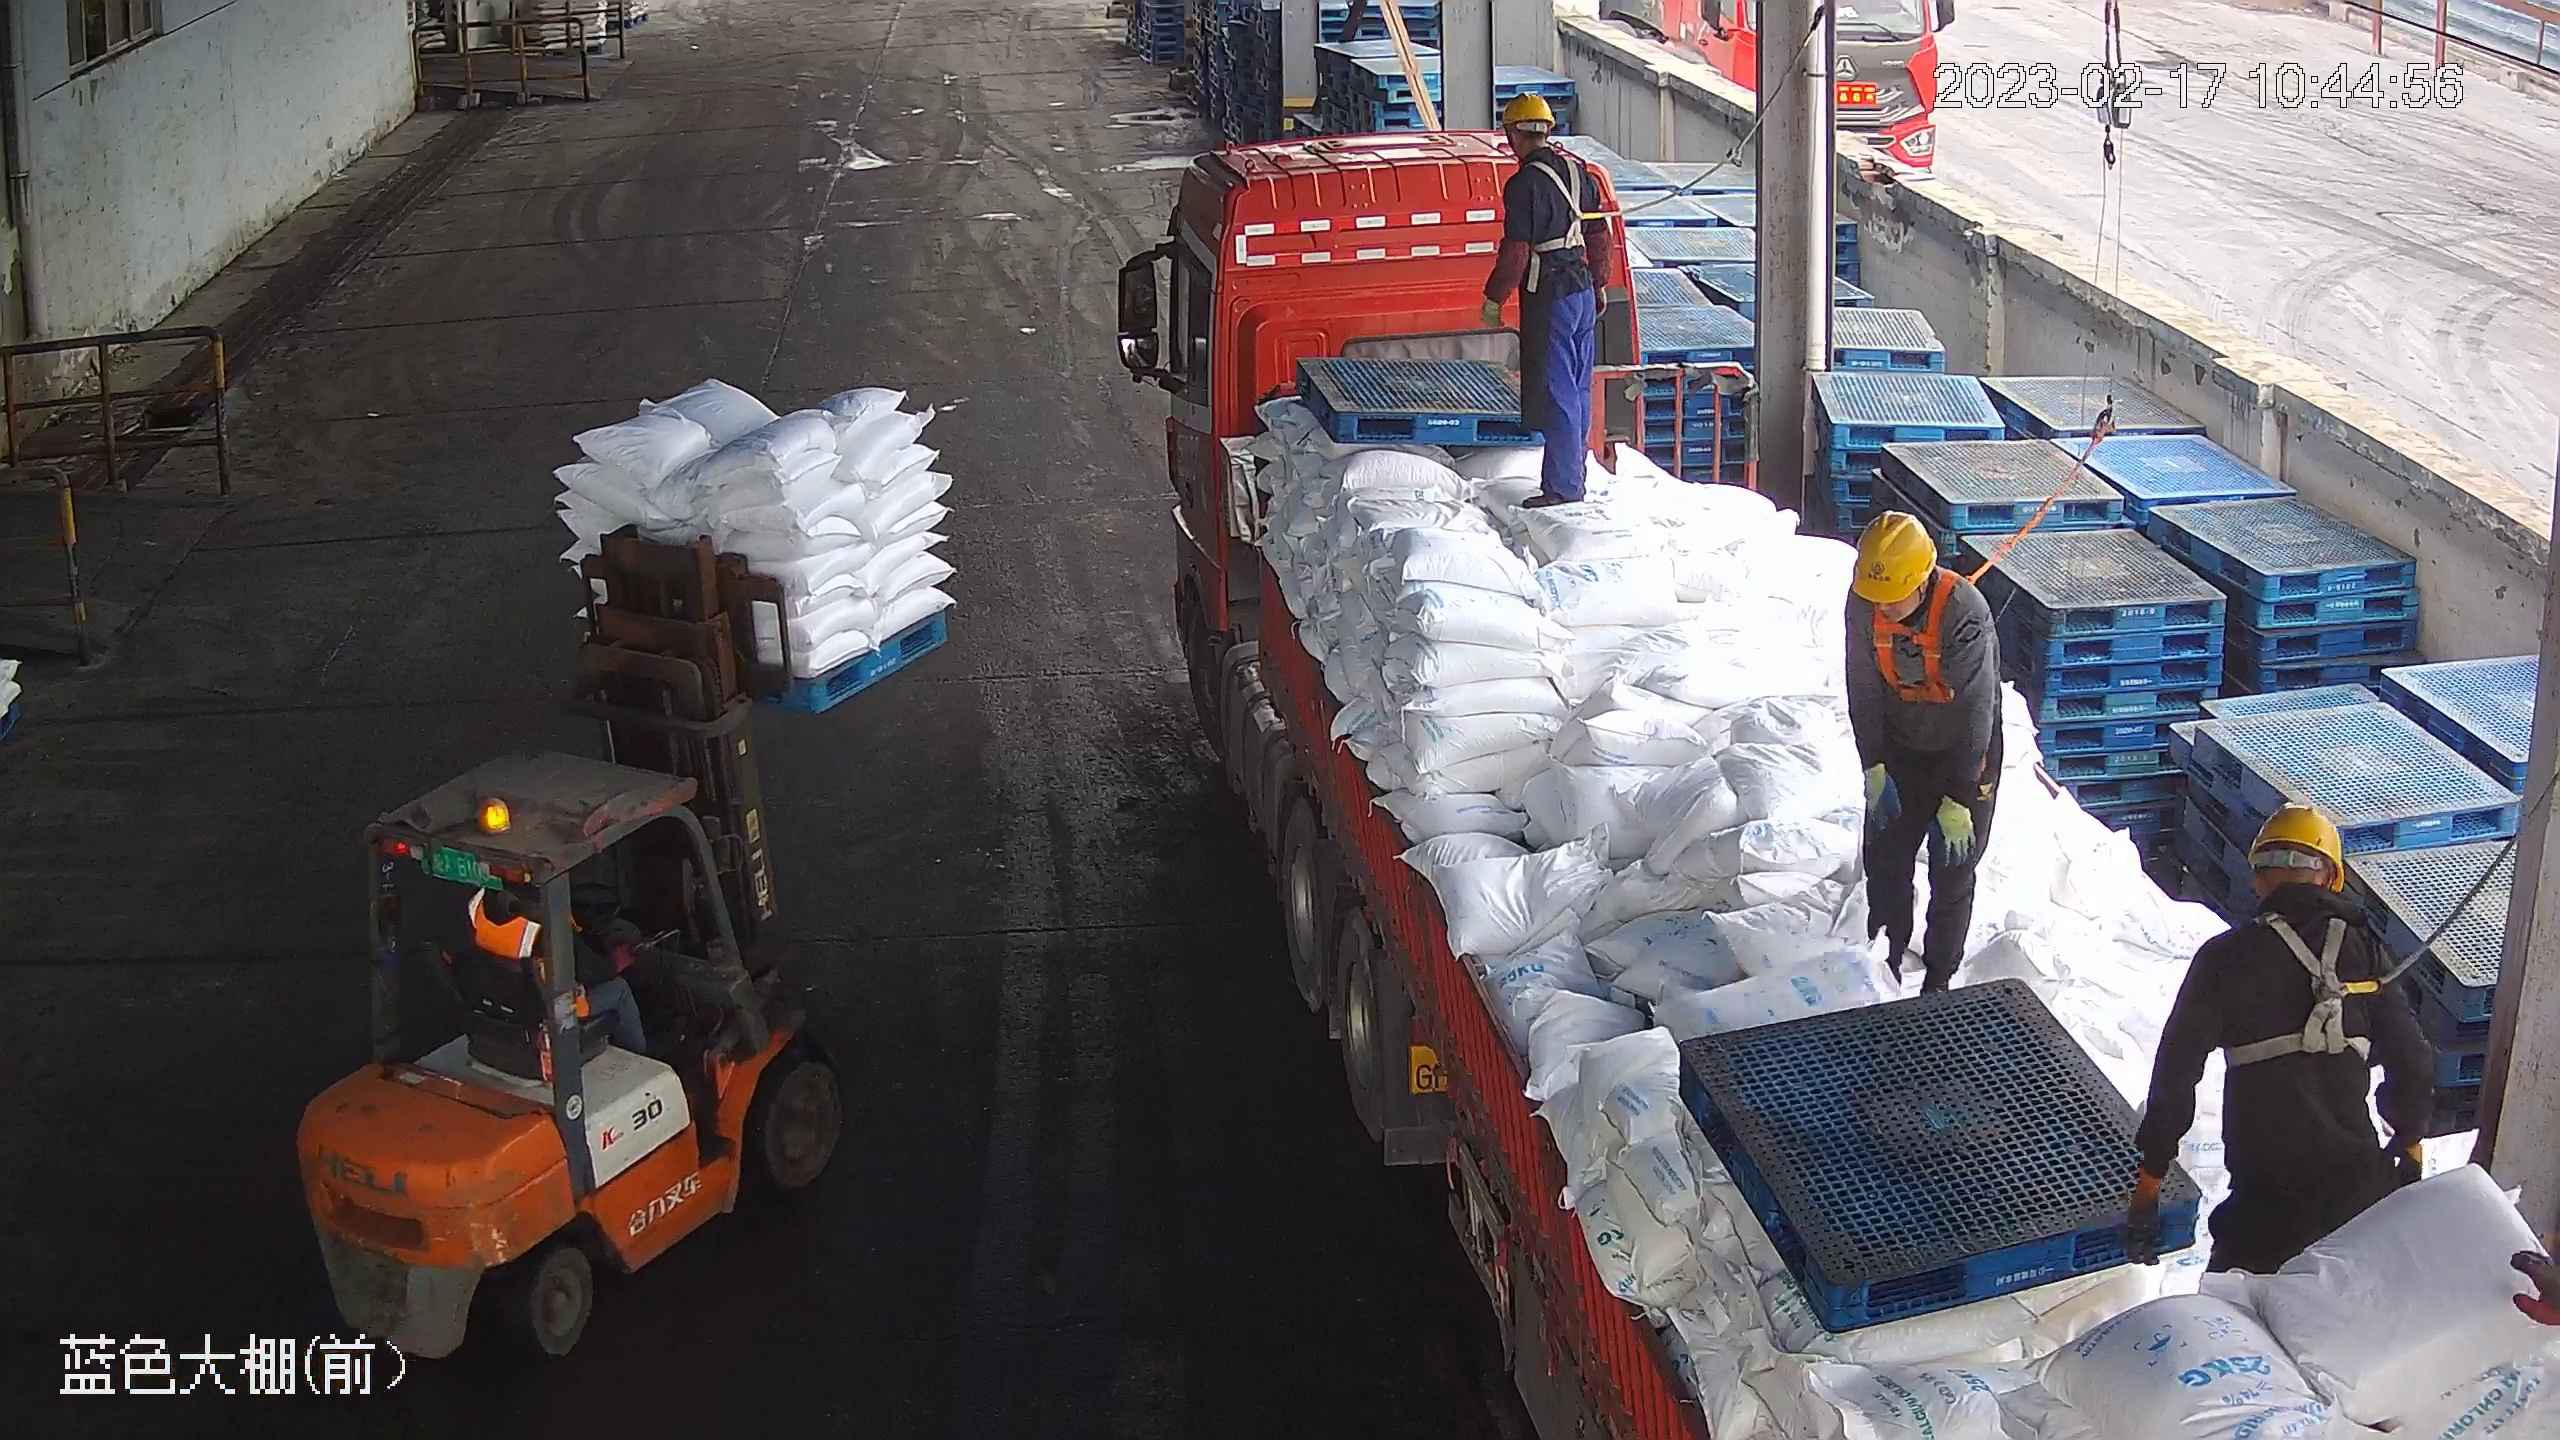belt: (2212, 913, 2413, 1093), (1871, 581, 1976, 706), (1527, 156, 1605, 269)
head: (2218, 801, 2401, 1015), (1845, 510, 1995, 672), (1488, 93, 1596, 227)
helmet: (1845, 511, 1940, 605), (2251, 808, 2347, 884), (1496, 93, 1549, 127)
people: (2129, 803, 2437, 1272), (1842, 510, 2005, 996), (1479, 93, 1610, 508)
truck: (1118, 130, 2560, 1440)
